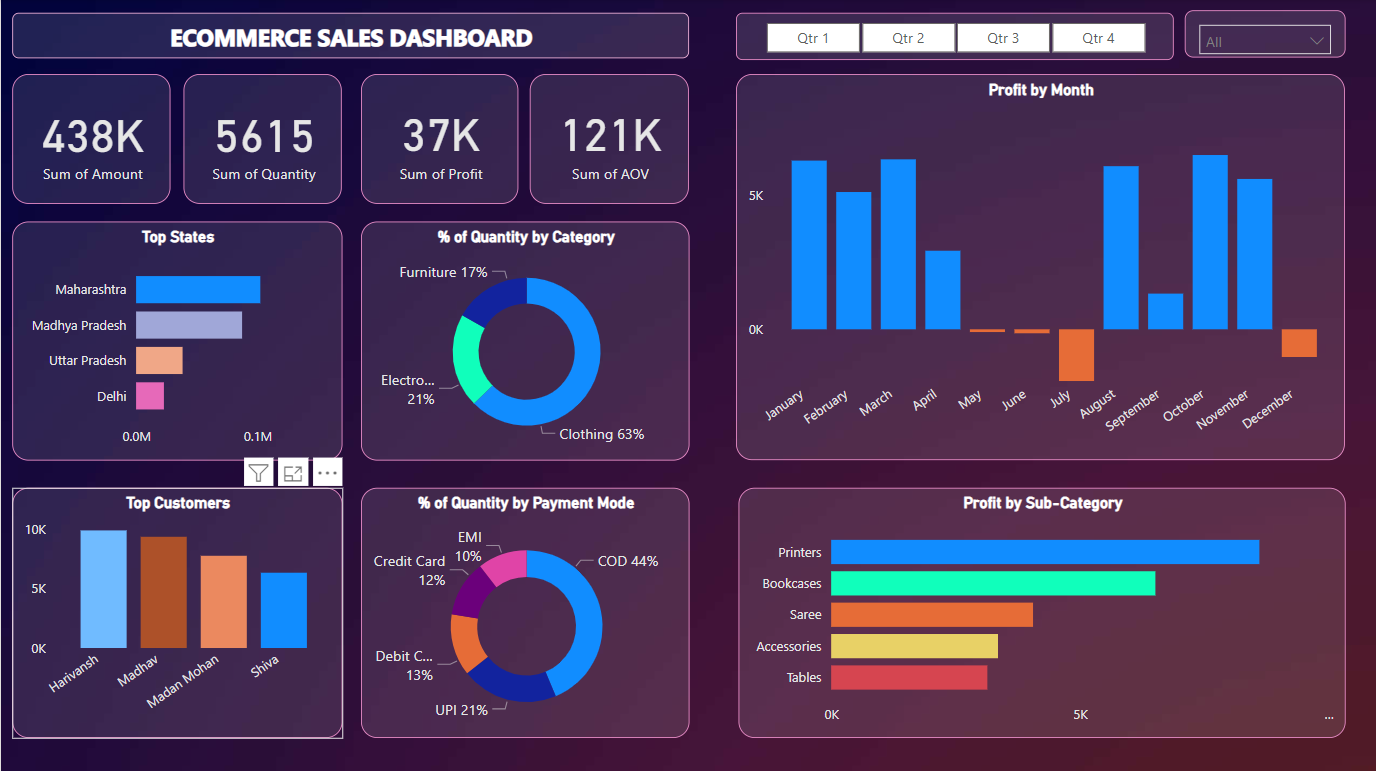

The dashboard page shown, as its layout file describes it:
{"tool":"powerbi","page":{"name":"Page 1","canvas":[1280,720],"ordinal":0},"visuals":[{"type":"textbox","box":[11,12.3,629.3,42.5],"z":0},{"type":"columnChart","title":"Profit by Month","fields":{"Category":["Orders.Order Date.Variation.Date Hierarchy.Month"],"Y":["Details.Profit"]},"box":[684.2,69.9,566.2,359.2],"z":1},{"type":"barChart","title":"Profit by Sub-Category","fields":{"Y":["Details.Profit"],"Category":["Details.Sub-Category"]},"box":[685.5,455.2,564.9,233.1],"z":2},{"type":"donutChart","title":"% of Quantity by Category","fields":{"Y":["Details.Quantity"],"Category":["Details.Category"]},"box":[334.5,207,305.7,222.1],"z":3},{"type":"donutChart","title":"% of Quantity by Payment Mode","fields":{"Y":["Details.Quantity"],"Category":["Details.PaymentMode"]},"box":[334.5,455.2,305.7,233.1],"z":4},{"type":"card","fields":{"Values":["Details.Amount"]},"box":[10.5,69.7,147.6,120.8],"z":5},{"type":"card","fields":{"Values":["Details.Profit"]},"box":[334.5,69.9,146.7,120.7],"z":6},{"type":"card","fields":{"Values":["Details.Quantity"]},"box":[169.6,69.7,147.6,120.8],"z":7},{"type":"card","fields":{"Values":["Details.AOV"]},"box":[492.2,69.9,148.1,120.7],"z":8},{"type":"barChart","title":"Top States","fields":{"Category":["Orders.State"],"Y":["Details.Amount"]},"box":[11,207,307.1,222.1],"z":9},{"type":"columnChart","title":"Top Customers","fields":{"Category":["Orders.CustomerName"],"Y":["Details.Amount"]},"box":[11,455.2,307.1,233.1],"z":10},{"type":"slicer","fields":{"Values":["Orders.Order Date.Variation.Date Hierarchy.Quarter"]},"box":[684.2,12.3,407.2,43.9],"z":11},{"type":"slicer","fields":{"Values":["Orders.State"]},"box":[1100.9,11,149.4,43.9],"z":12}]}

Visuals, with their boxes in screenshot pixels (x1, y1, x2, y2), scaled from the page's 1280x720 canvas onto the 1376x771 screenshot:
textbox: Rect(12, 13, 688, 59)
"Profit by Month" columnChart: Rect(736, 75, 1344, 459)
"Profit by Sub-Category" barChart: Rect(737, 487, 1344, 737)
"% of Quantity by Category" donutChart: Rect(360, 222, 688, 459)
"% of Quantity by Payment Mode" donutChart: Rect(360, 487, 688, 737)
card - Details.Amount: Rect(11, 75, 170, 204)
card - Details.Profit: Rect(360, 75, 517, 204)
card - Details.Quantity: Rect(182, 75, 341, 204)
card - Details.AOV: Rect(529, 75, 688, 204)
"Top States" barChart: Rect(12, 222, 342, 459)
"Top Customers" columnChart: Rect(12, 487, 342, 737)
slicer - Orders.Order Date.Variation.Date Hierarchy.Quarter: Rect(736, 13, 1173, 60)
slicer - Orders.State: Rect(1183, 12, 1344, 59)
